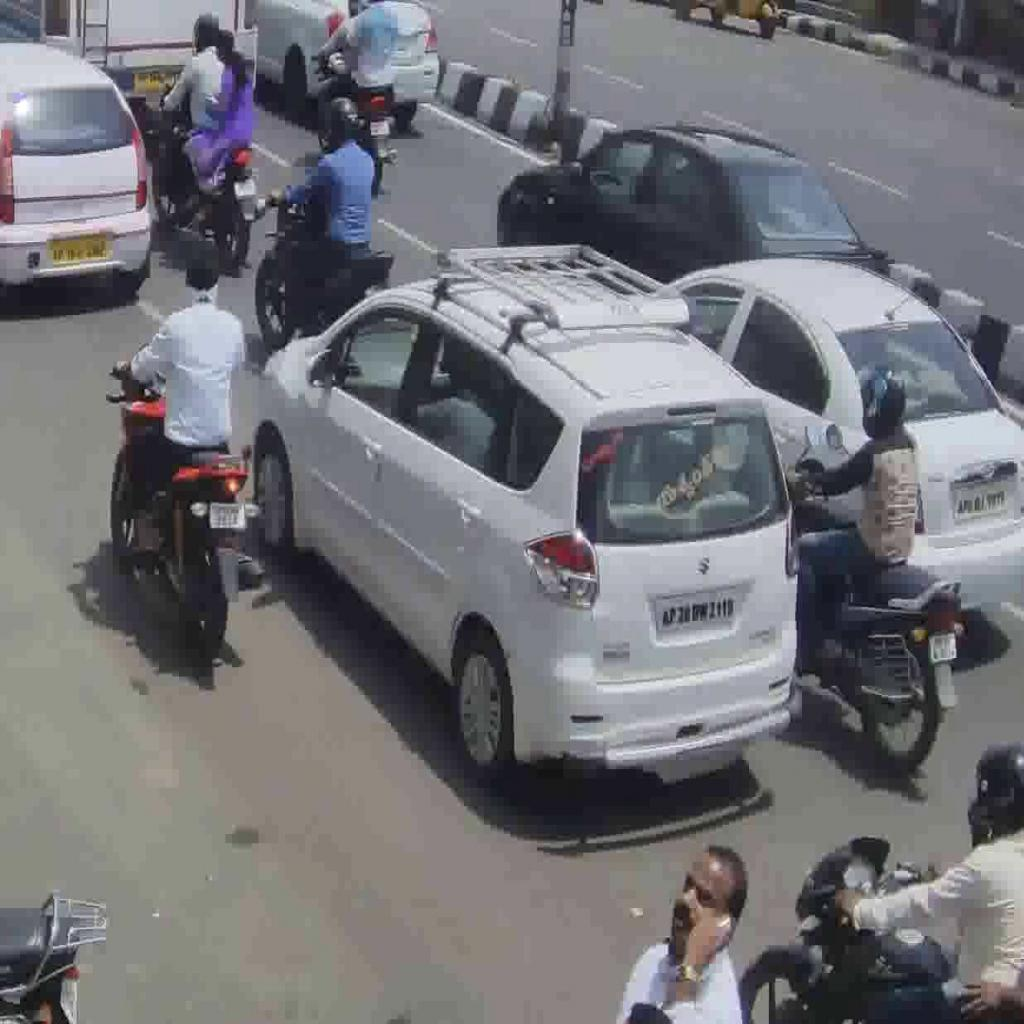helmet: (784, 456, 964, 775), (738, 829, 1024, 1024), (109, 341, 267, 664), (254, 183, 396, 349), (152, 80, 268, 268), (315, 40, 399, 190)
